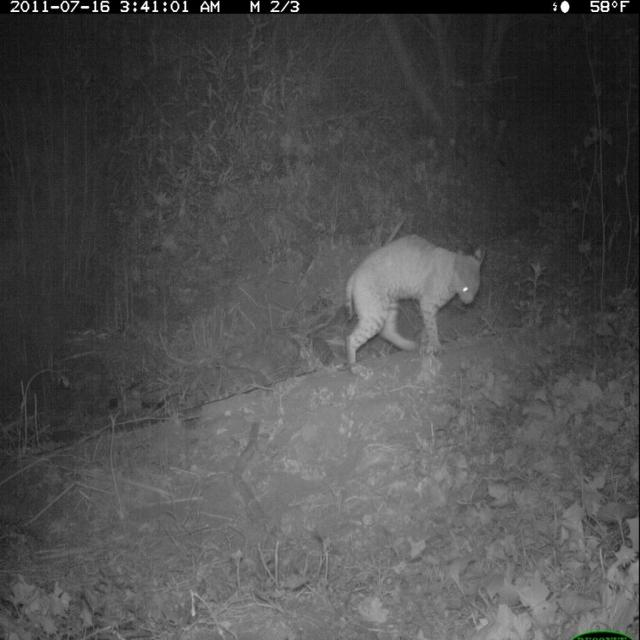bobcat: (330, 222, 492, 393)
